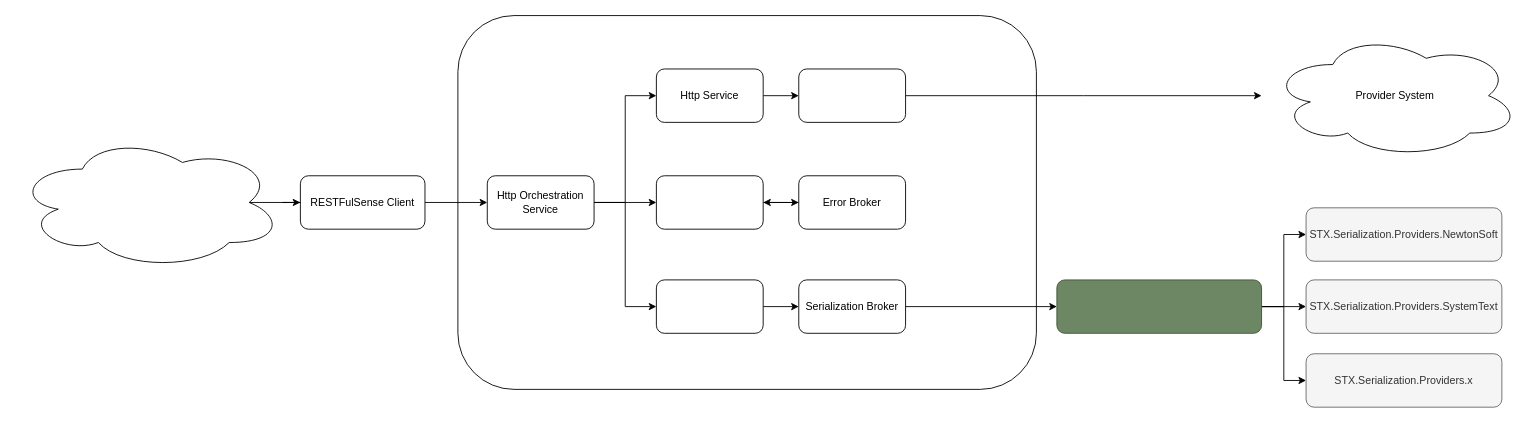
Image size: 1535x423. Some labels were removed from this diagram. The centre of each missing label's shape, as x and y in pixels:
Consumer System: the point at 149,202
Error Mapper Service: the point at 709,202
Http Broker: the point at 852,95
Serialization Service: the point at 709,306
STX.Serialization.Providers.Abstractions: the point at 1159,306
